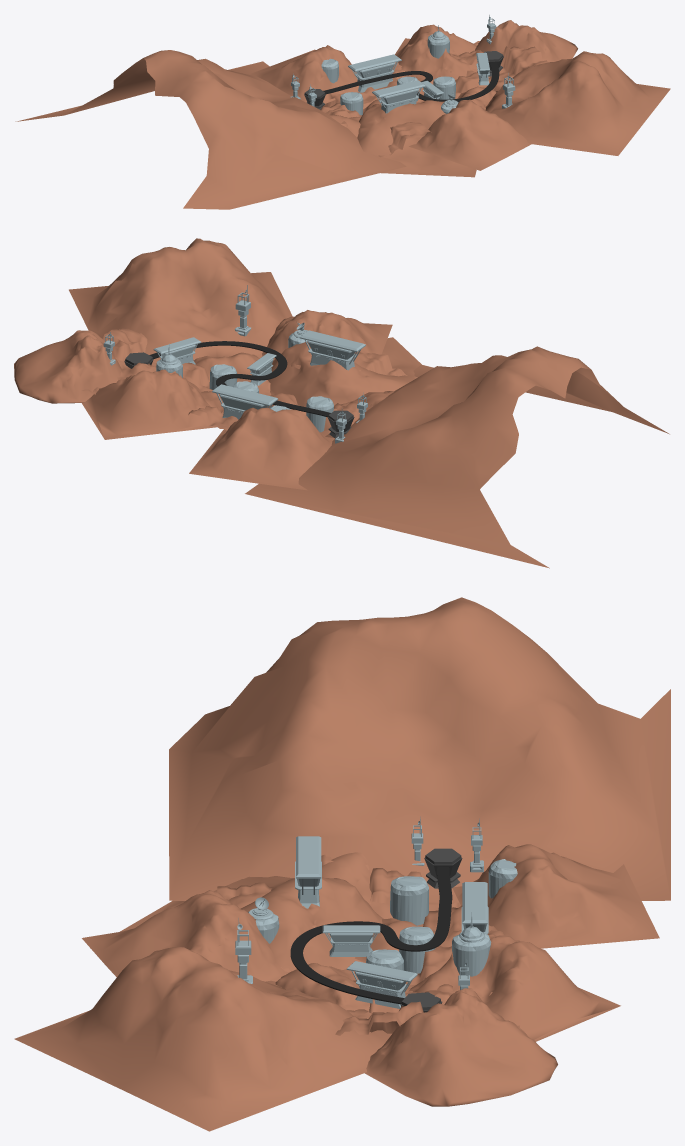
File: map.fbx
3 views of the same model, one above another, from view 1: azimuth 30°, elevation 25°; view 2: azimuth 150°, elevation 25°; view 3: azimuth 270°, elevation 25° (orthographic). The views are drawn at different scales.
Visible parts, largest first — view 1: Landscape.001, Bounds, Building, Path, tower, Struct.003, Plane.001, Struct.002, Plane.002; view 2: Landscape.001, Bounds, Building, Path, tower, Plane.001; view 3: Landscape.001, Building, Bounds, Path, tower, Plane.001, Struct.003, Struct, BaseStand, Plane.003.
Boxes of the visible parts, box(x1,y1,x2,y2) form: Landscape.001: box(15, 20, 670, 209); Bounds: box(320, 41, 547, 157); Building: box(348, 52, 490, 113); Path: box(323, 62, 499, 102); tower: box(290, 15, 515, 108); Struct.003: box(427, 25, 449, 58); Plane.001: box(340, 92, 363, 115); Struct.002: box(433, 76, 455, 99); Plane.002: box(321, 58, 338, 83); Landscape.001: box(14, 238, 669, 568); Bounds: box(82, 328, 417, 430); Building: box(153, 330, 365, 419); Path: box(149, 341, 330, 417); tower: box(103, 285, 367, 443); Plane.001: box(306, 396, 333, 432); Landscape.001: box(14, 597, 670, 1131); Building: box(295, 836, 488, 1008); Bounds: box(217, 854, 519, 1035); Path: box(290, 866, 452, 1004); tower: box(235, 816, 483, 989); Plane.001: box(390, 876, 428, 925); Struct.003: box(452, 912, 491, 976); Struct: box(399, 926, 435, 973); BaseStand: box(424, 848, 462, 888); Plane.003: box(248, 897, 279, 943).
Size of the model in its own units: 16818 by 3340 by 10451.
